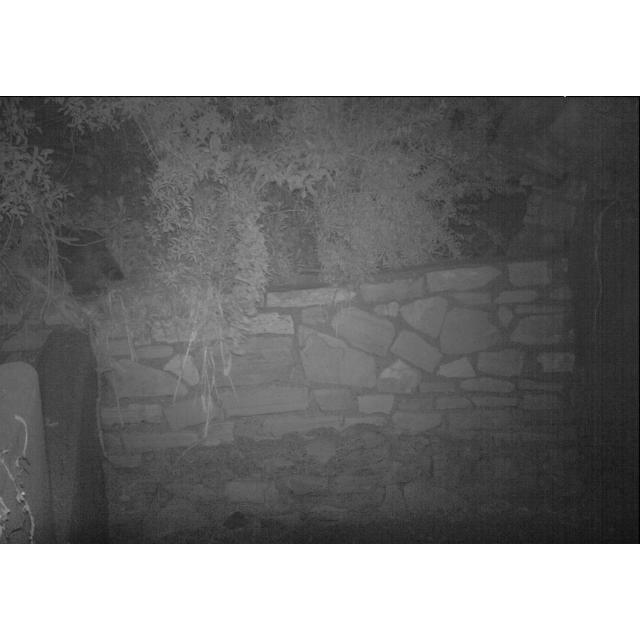animals: (212, 509, 278, 539)
